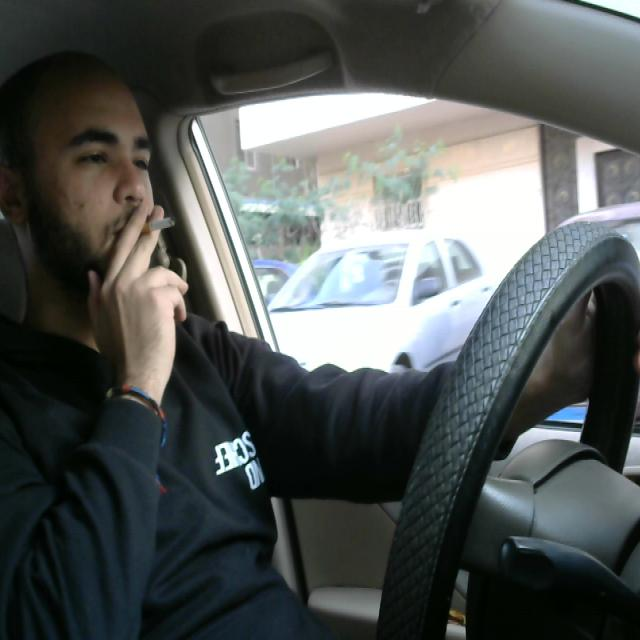smoking: (138, 212, 184, 237)
